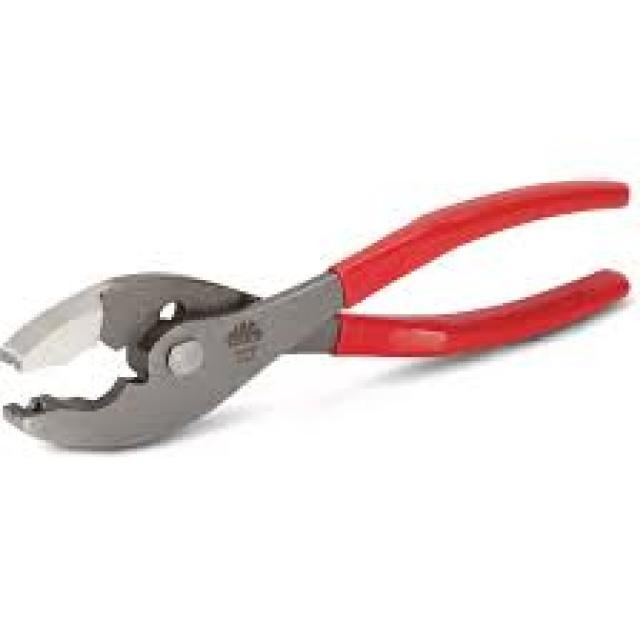pliers: (0, 168, 634, 457)
